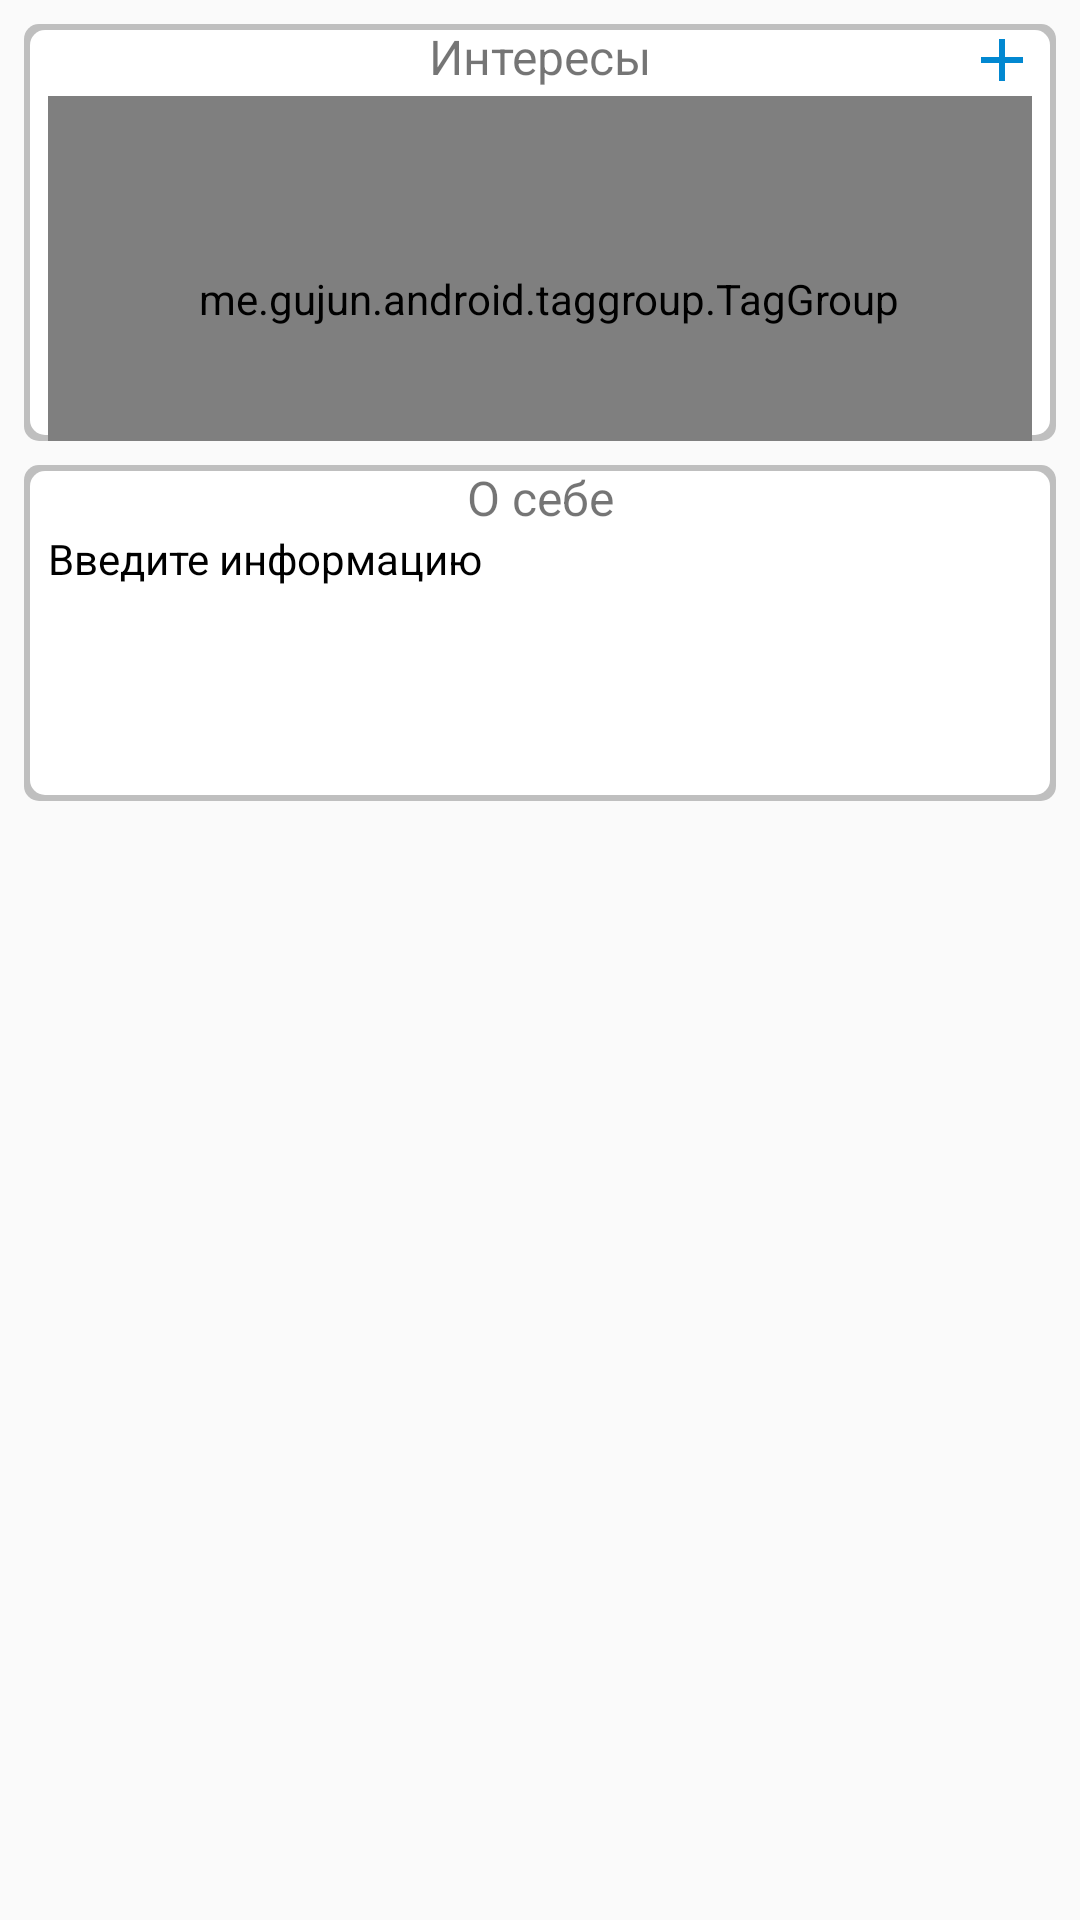

Named icons in this screenshot (1080w x 1920h) and their centers, (x,y):
add tags: (1002,60)
